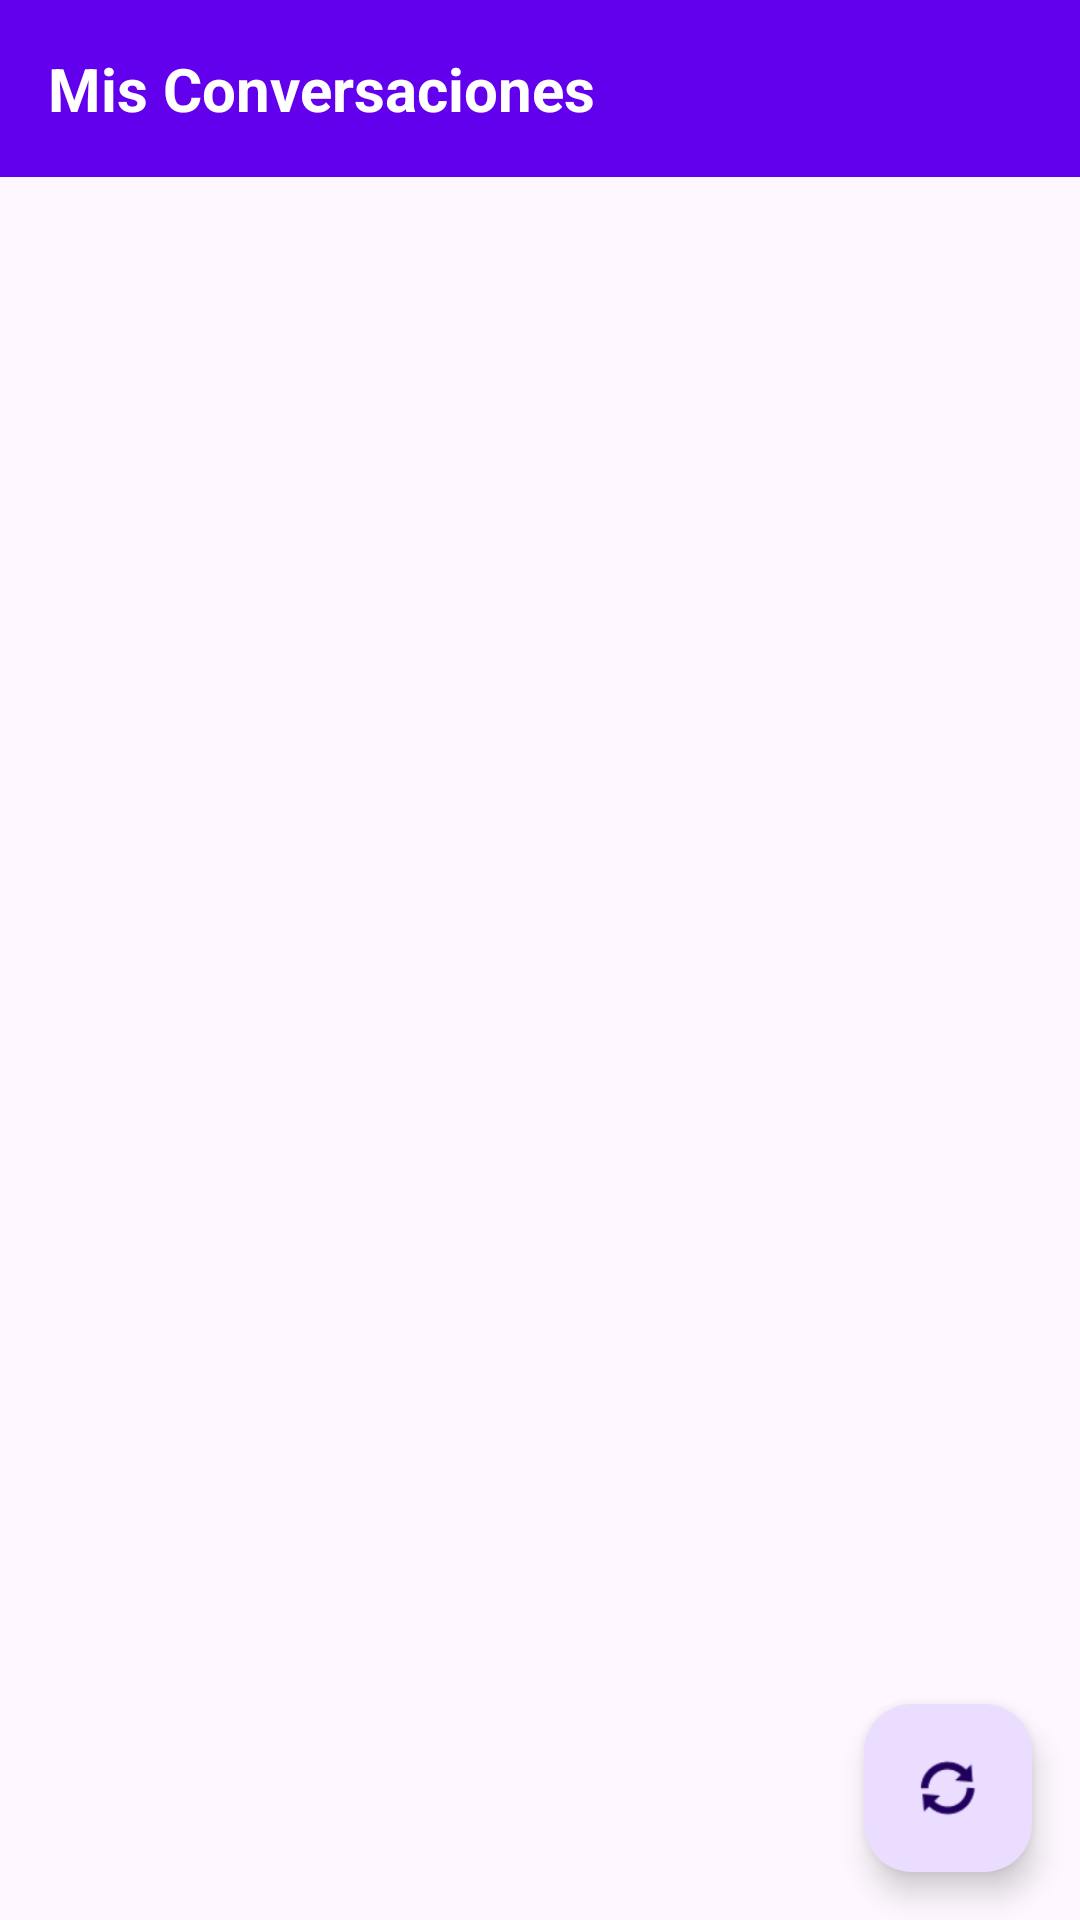

Icon click points for this 1080*1920 phone screenshot, format (x=x, y=y):
Refrescar: (x=948, y=1788)
